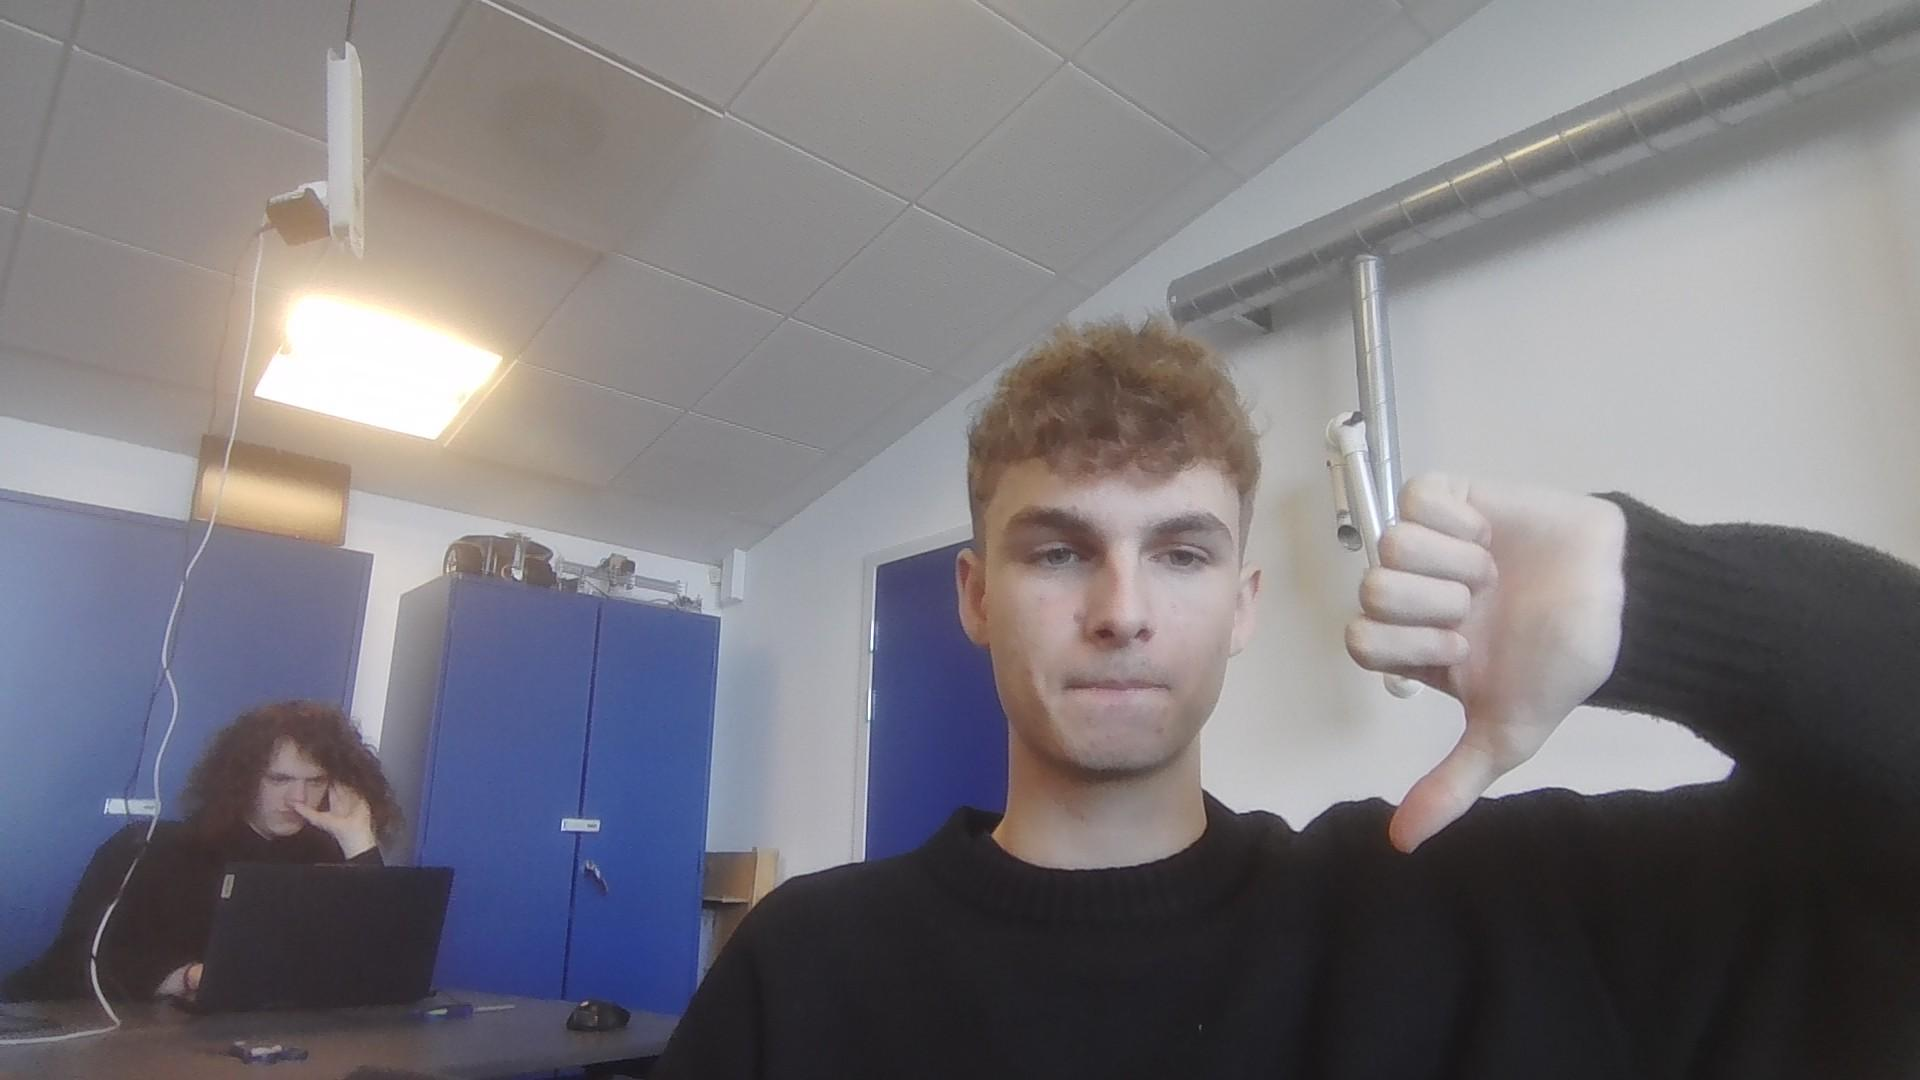thumbs down: (1345, 465, 1654, 855)
